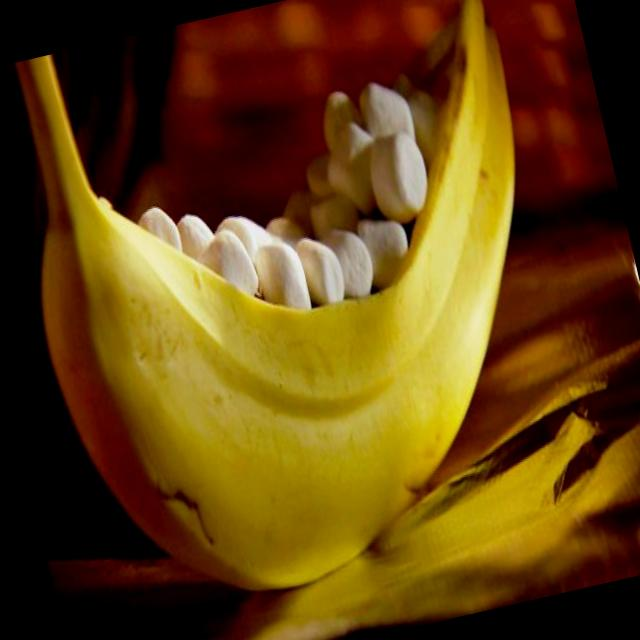banana: (13, 0, 629, 629)
